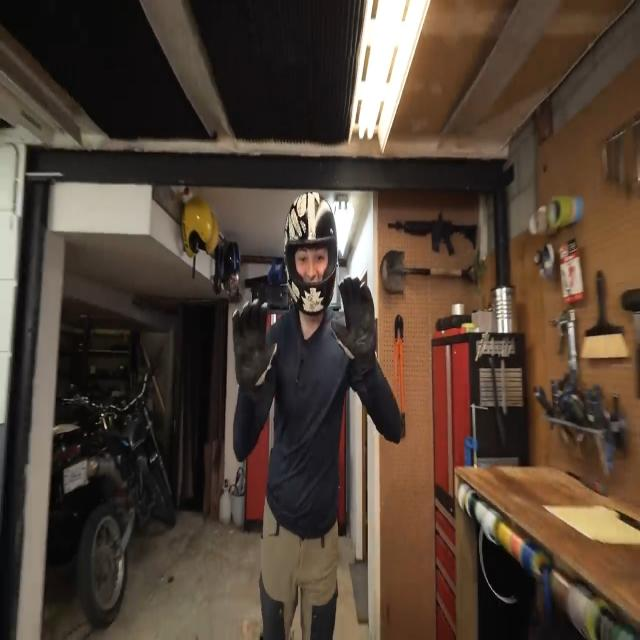Helmet_Wearer: (276, 192, 338, 319)
Person: (229, 187, 403, 640)
